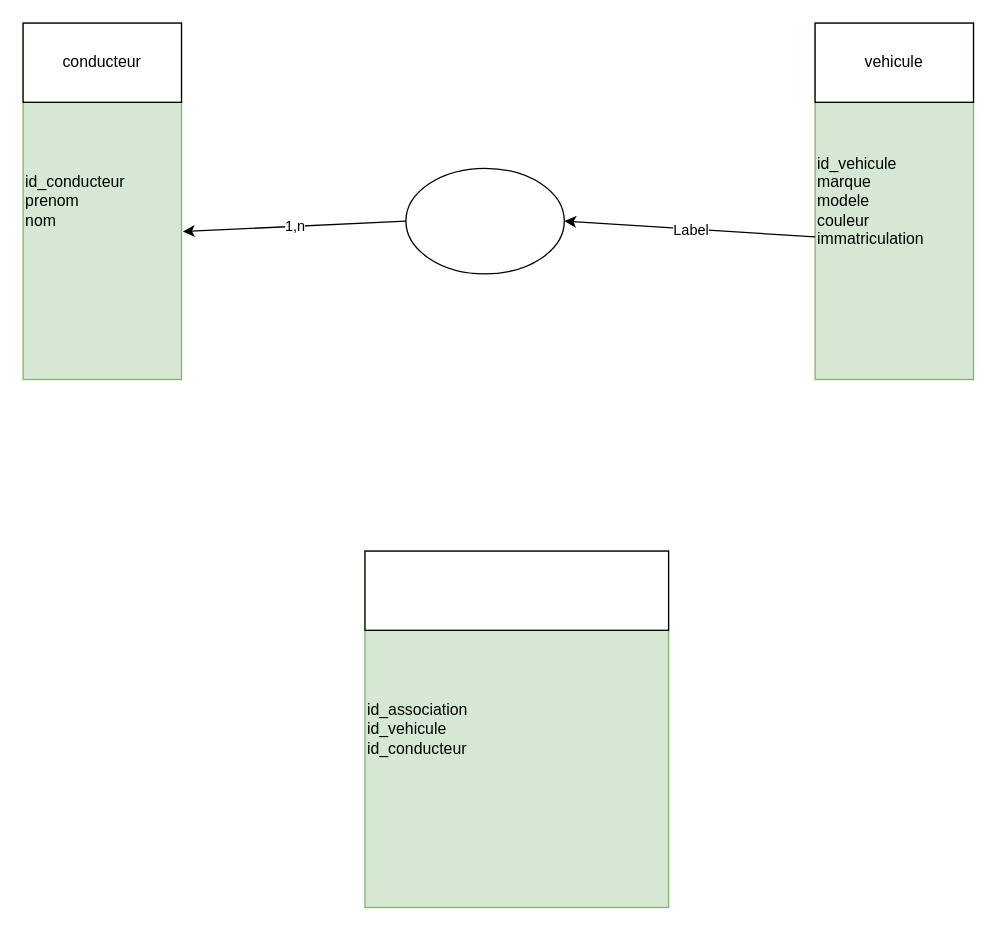
The diagram is 997 pixels wide and 931 high, and some of its shapes have lost their labels. The shapes that lost their labels are listed below. From the top down, each one's box as (x1, y1, x2, y2) in pixels, then its label:
(405, 167, 564, 274): est conduit par
(364, 550, 669, 630): association_vehicule_conducteur
